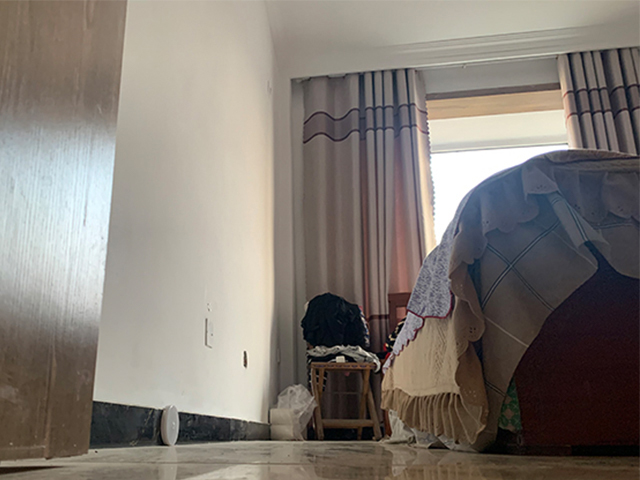bed: (379, 148, 640, 456)
curtainw: (300, 75, 436, 333), (556, 44, 640, 162)
stool: (307, 359, 381, 441)
